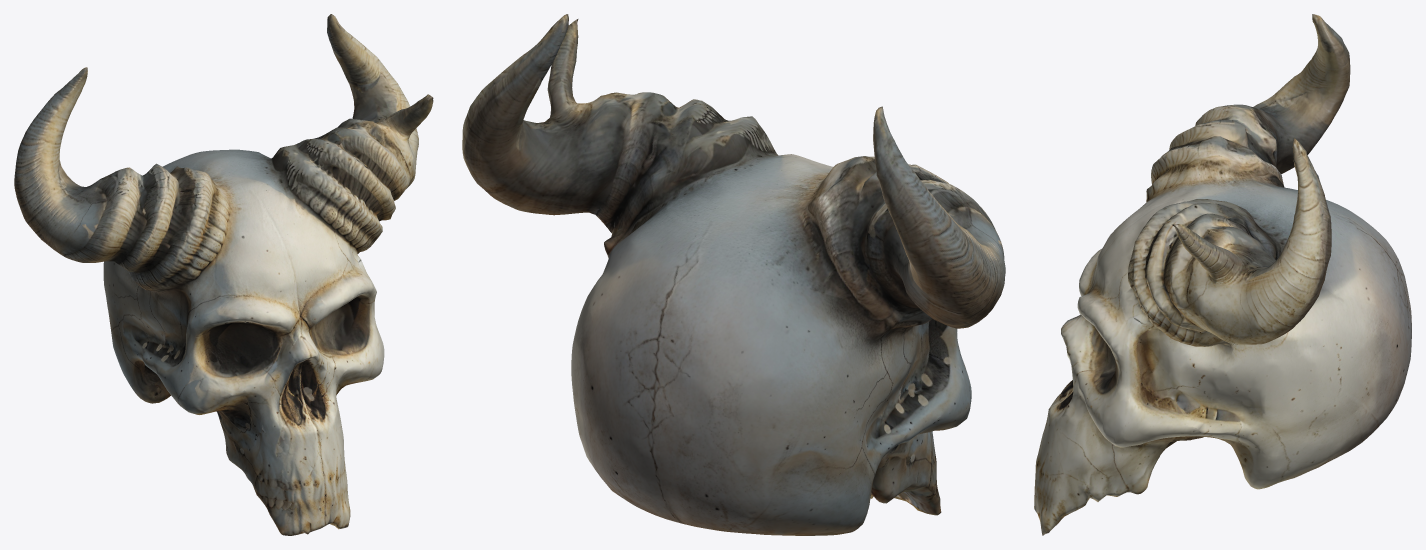
The model's file is Skull_with_horns_0601115454_refine.obj.
3 views of the same model, side by side, from view 1: azimuth 30°, elevation 25°; view 2: azimuth 150°, elevation 25°; view 3: azimuth 270°, elevation 25° (orthographic). The views are drawn at different scales.
Visible parts, largest first — view 1: Mesh_0; view 2: Mesh_0; view 3: Mesh_0.
Boxes of the visible parts, bbox=[...] form: Mesh_0: bbox=[14, 14, 433, 535]; Mesh_0: bbox=[462, 14, 1005, 535]; Mesh_0: bbox=[1034, 14, 1411, 535].
Bounding box in the file's own units: 1.17 × 1.2 × 0.9121.
Materials: 1 (1 with a texture image).
